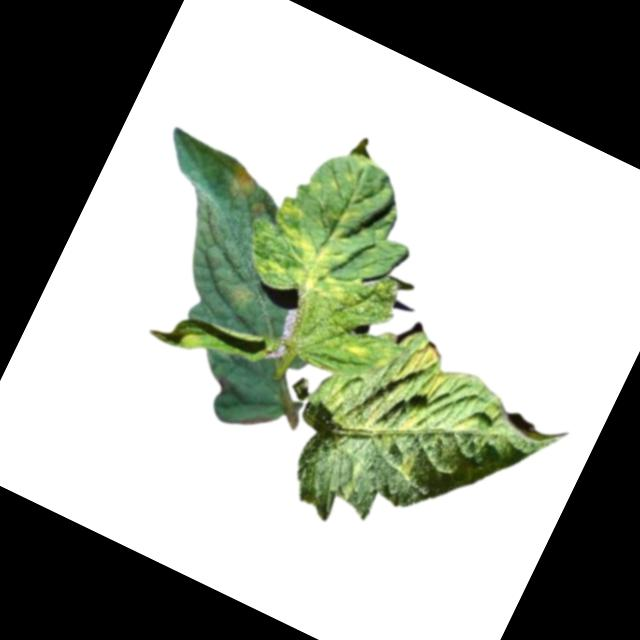Leaf_Mold: (237, 123, 415, 321), (354, 323, 462, 444), (225, 161, 264, 202), (336, 328, 378, 366), (224, 274, 259, 310), (392, 445, 422, 479)
